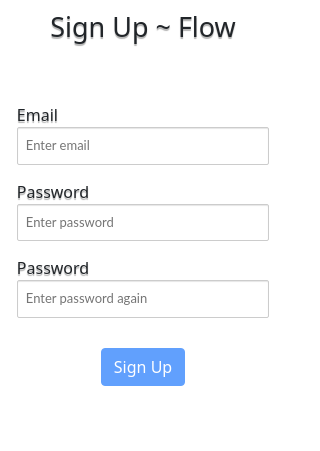
Test: check button not disabled
The image size is (320, 451).
In the field with test id "email": {"x": 143, "y": 146} [17,127,269,165], type "abc@abc.xyz"
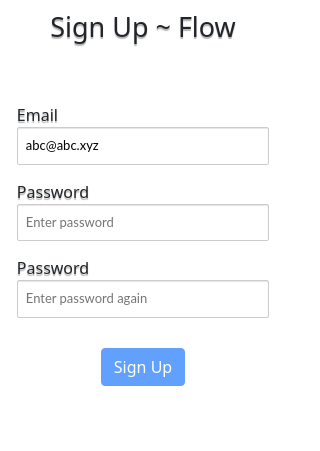
In the password field with test id "pass1": {"x": 143, "y": 223} [17,204,269,241], type "HzdkXy"
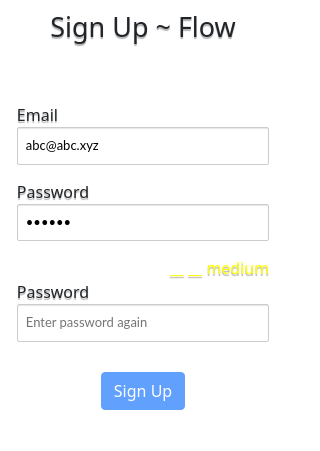
In the password field with test id "pass2": {"x": 143, "y": 323} [17,304,269,342], type "HzdkXy"
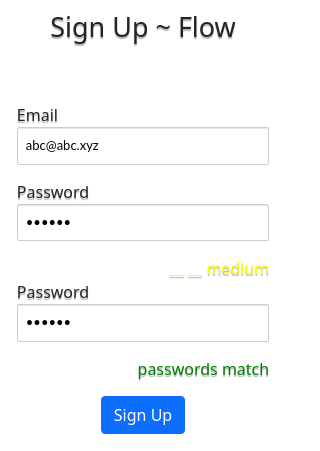
Check: the button "Sign Up" is enabled, box [101,396,185,434]
